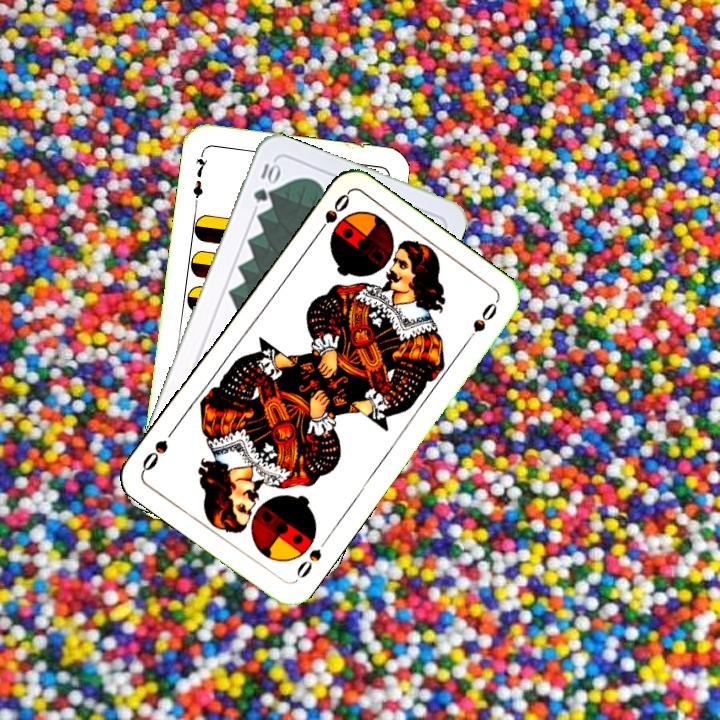E7: (188, 148, 211, 207)
G10: (249, 159, 282, 206)
SO: (311, 189, 353, 241), (291, 545, 325, 585)
